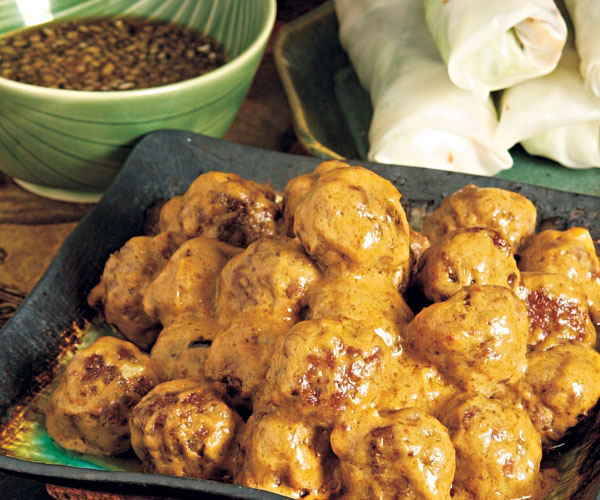meatballs: (181, 205, 531, 454)
